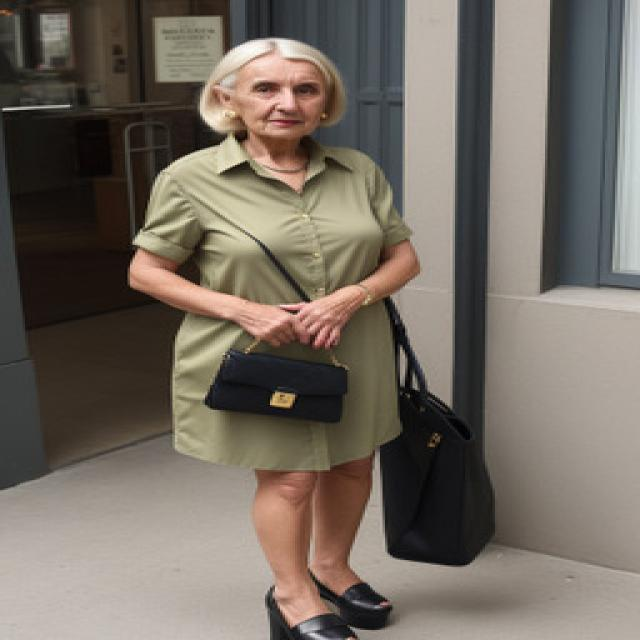Ai human 2: (108, 28, 442, 640)
